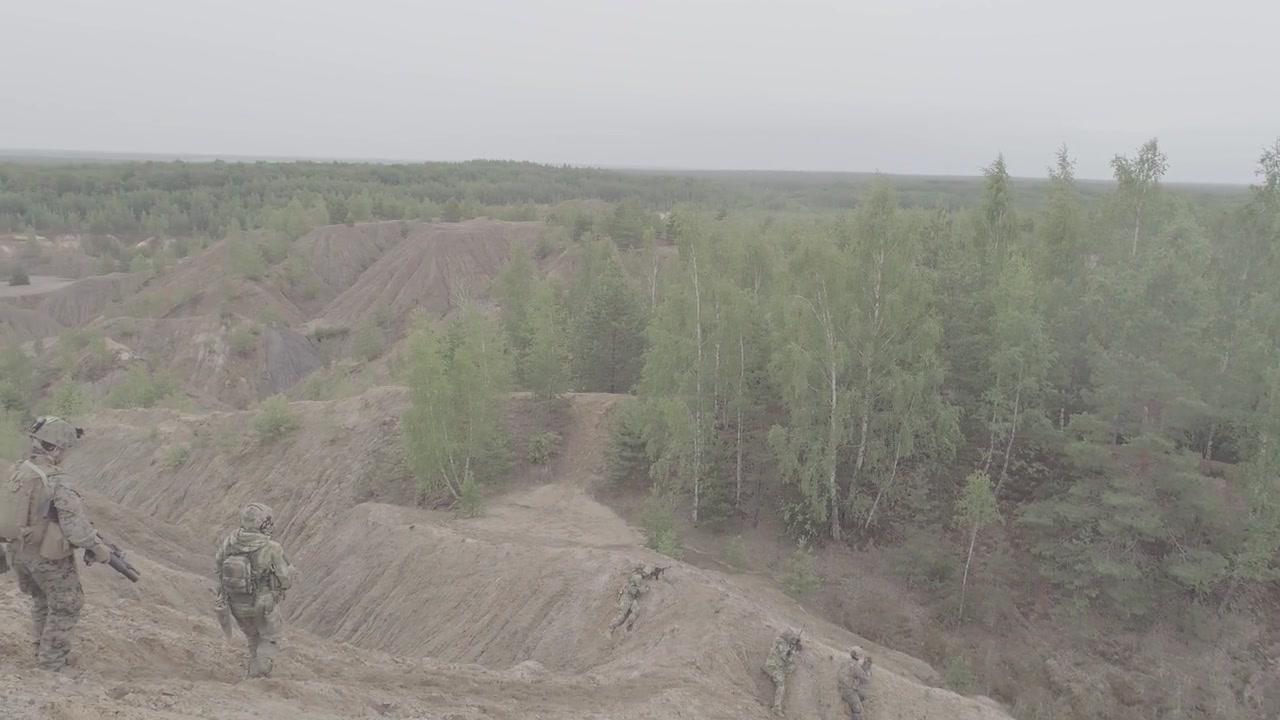person: (18, 419, 146, 679)
